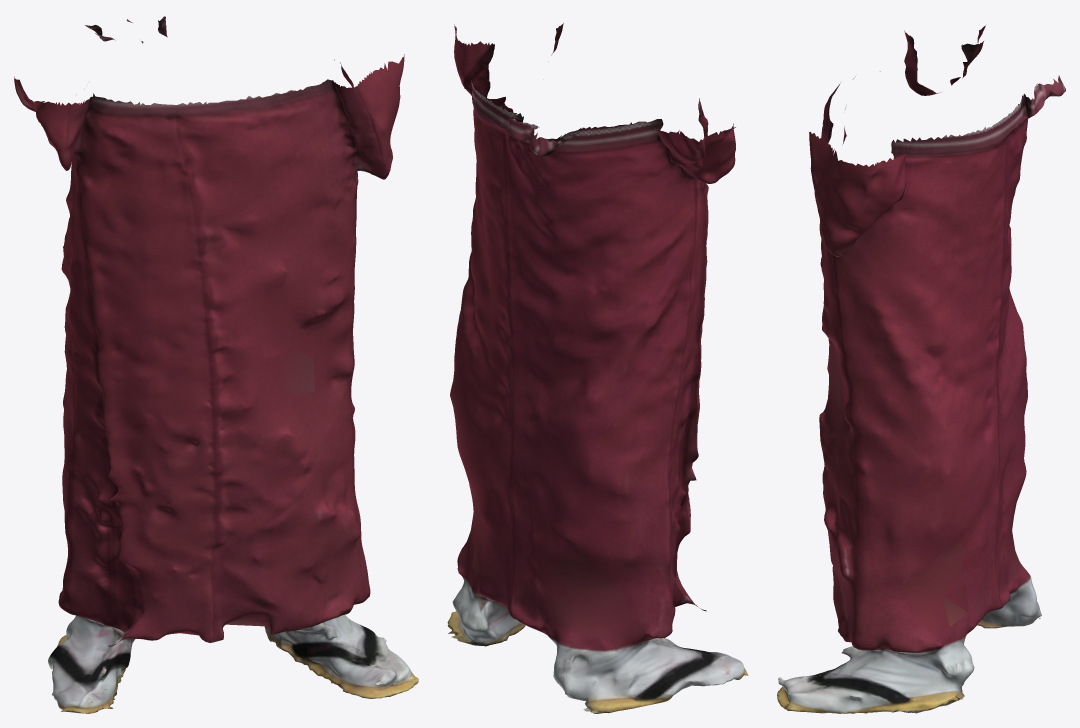
Rendered from toda_base.glb.
The picture shows the model from 3 angles, left to right: view 1: azimuth 30°, elevation 25°; view 2: azimuth 150°, elevation 25°; view 3: azimuth 270°, elevation 25°; orthographic projection. The views are drawn at different scales.
Parts seen in each view (by area): view 1: base; view 2: base; view 3: base.
Part boxes in pixels (x1=…): base: x1=14, y1=16, x2=418, y2=713; base: x1=447, y1=23, x2=748, y2=713; base: x1=777, y1=25, x2=1065, y2=713.
Size of the model in its own units: 5.07 by 8.8 by 4.1.
Materials: 2 (2 with a texture image).
